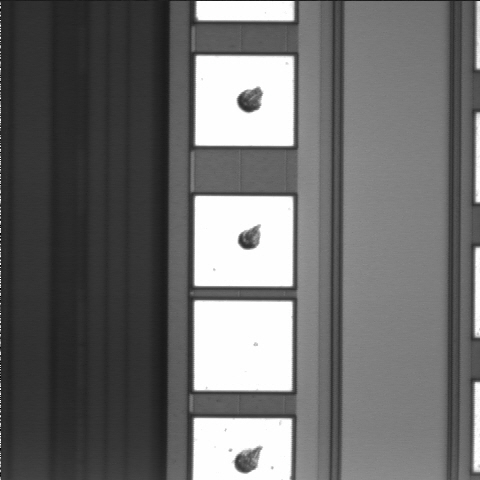pad: (195, 56, 294, 146), (194, 196, 293, 286), (194, 301, 292, 391)
